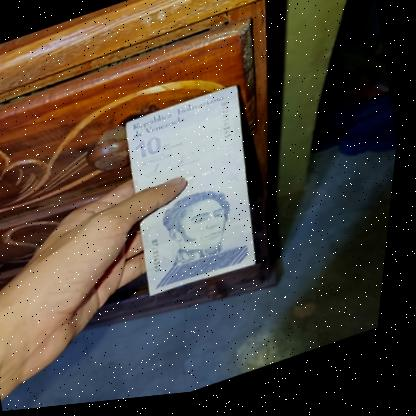ten-front-vef: (113, 86, 285, 308)
